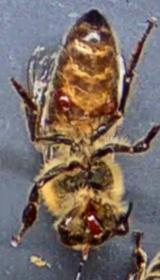varroa_mite: (47, 88, 80, 115)
